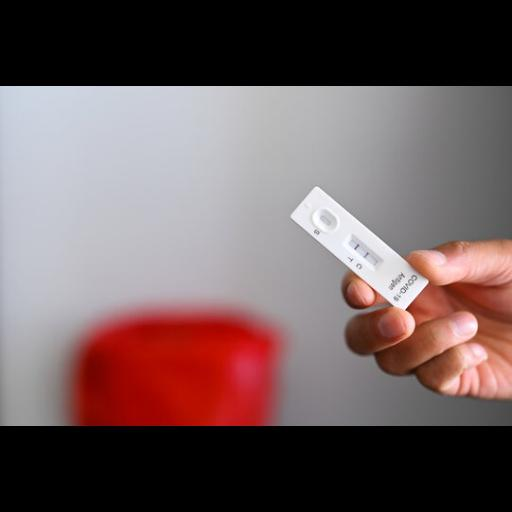Pos: (291, 186, 429, 310)
